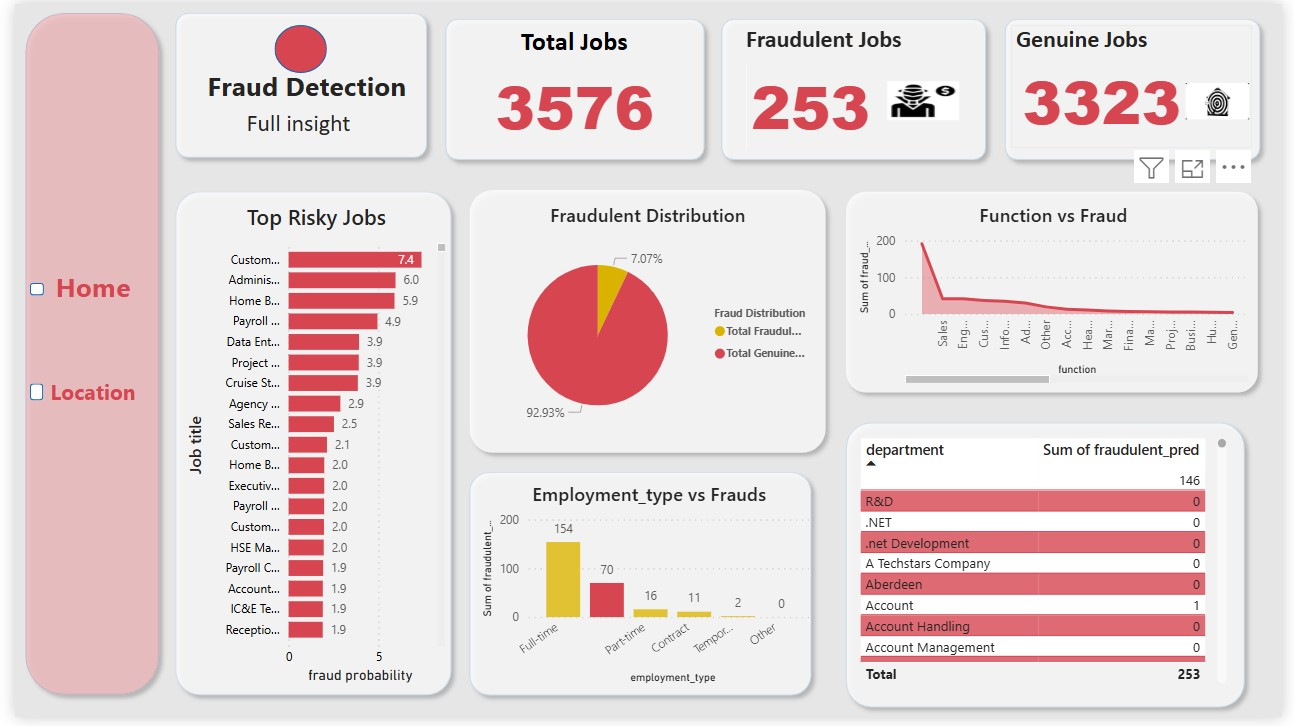

This screenshot's page, from the dashboard's own definition file:
{"tool":"powerbi","page":{"name":"Home","canvas":[1280,720],"ordinal":0},"visuals":[{"type":"shape","box":[1.9,0,153.1,706.8],"z":0},{"type":"shape","box":[153.1,0,272.1,164.4],"z":1000},{"type":"shape","box":[425.2,5.7,279.7,160.6],"z":2000},{"type":"shape","box":[704.9,5.7,285.4,160.6],"z":3000},{"type":"shape","box":[990.2,5.7,275.9,160.6],"z":4000},{"type":"shape","box":[152.9,180.2,296.8,526.9],"z":5000},{"type":"shape","box":[449.8,179.5,379.8,283.5],"z":6000},{"type":"shape","box":[449.7,463.3,363.4,243.8],"z":7000},{"type":"shape","box":[829.8,413.4,420.9,305.9],"z":8000},{"type":"textbox","box":[183.3,58.6,223,58.6],"z":9000},{"type":"textbox","box":[228.7,100.2,122.8,45.4],"z":10000},{"type":"shape","box":[262,21.2,53,48.5],"z":11000},{"type":"card","title":"Total Jobs","fields":{"Values":["Measures (2).Total Jobs"]},"box":[439.1,21.2,251.4,124.2],"z":12000},{"type":"multiRowCard","title":"Genuine Jobs","fields":{"Values":["Measures (2).Total Genuine Jobs"]},"box":[1005.4,21.2,245.3,124.2],"z":13000},{"type":"multiRowCard","title":"Fraudulent Jobs","fields":{"Values":["Measures (2).Total Fraudulent Jobs"]},"box":[732.9,21.2,225.6,124.2],"z":14000},{"type":"image","box":[875.2,72.7,83.3,50],"z":15000},{"type":"image","box":[1176.5,31.8,74.2,133.3],"z":16000},{"type":"shape","box":[829.8,180.2,436.1,221.1],"z":17000},{"type":"pieChart","title":"Fraudulent Distribution","fields":{"Y":["Measures (2).Total Fraudulent Jobs","Measures (2).Total Genuine Jobs"]},"box":[464.9,199.9,348.3,243.8],"z":18000},{"type":"barChart","title":"Top Risky Jobs","fields":{"Category":["fraud_predictions1.title"],"Y":["Sum(fraud_predictions1.fraud_probability)"]},"box":[169.6,199.9,269.5,490.6],"z":19000},{"type":"tableEx","fields":{"Values":["fraud_predictions1.department","Sum(fraud_predictions1.fraudulent_pred)"]},"box":[848,433.1,380.1,257.4],"z":20000},{"type":"columnChart","title":"Employment_type vs Frauds","fields":{"Category":["fraud_predictions1.employment_type"],"Y":["Sum(fraud_predictions1.fraudulent_pred)"]},"box":[467,481.3,348.1,209.1],"z":21000},{"type":"stackedAreaChart","title":"Function vs Fraud","fields":{"Category":["fraud_predictions1.function"],"Y":["Sum(fraud_predictions1.fraud_probability)"]},"box":[846.4,199.9,404.3,187.8],"z":22000},{"type":"actionButton","box":[28.3,260.8,100.2,49.1],"z":23000},{"type":"actionButton","box":[28.3,334.5,100.2,111.5],"z":24000},{"type":"shape","box":[15.5,281.4,14,12.4],"z":25000},{"type":"shape","box":[15.1,383.6,13.2,17],"z":26000}]}

Visuals, with their boxes in screenshot pixels (x1, y1, x2, y2), scaled from the page's 1280x720 canvas onto the 1294x726 screenshot:
shape: rect(2, 0, 157, 713)
shape: rect(155, 0, 430, 166)
shape: rect(430, 6, 713, 168)
shape: rect(713, 6, 1001, 168)
shape: rect(1001, 6, 1280, 168)
shape: rect(155, 182, 455, 713)
shape: rect(455, 181, 839, 467)
shape: rect(455, 467, 822, 713)
shape: rect(839, 417, 1264, 725)
textbox: rect(185, 59, 411, 118)
textbox: rect(231, 101, 355, 147)
shape: rect(265, 21, 318, 70)
"Total Jobs" card: rect(444, 21, 698, 147)
"Genuine Jobs" multiRowCard: rect(1016, 21, 1264, 147)
"Fraudulent Jobs" multiRowCard: rect(741, 21, 969, 147)
image: rect(885, 73, 969, 124)
image: rect(1189, 32, 1264, 166)
shape: rect(839, 182, 1280, 405)
"Fraudulent Distribution" pieChart: rect(470, 202, 822, 447)
"Top Risky Jobs" barChart: rect(171, 202, 444, 696)
tableEx - fraud_predictions1.department x Sum(fraud_predictions1.fraudulent_pred): rect(857, 437, 1242, 696)
"Employment_type vs Frauds" columnChart: rect(472, 485, 824, 696)
"Function vs Fraud" stackedAreaChart: rect(856, 202, 1264, 391)
actionButton: rect(29, 263, 130, 312)
actionButton: rect(29, 337, 130, 450)
shape: rect(16, 284, 30, 296)
shape: rect(15, 387, 29, 404)
